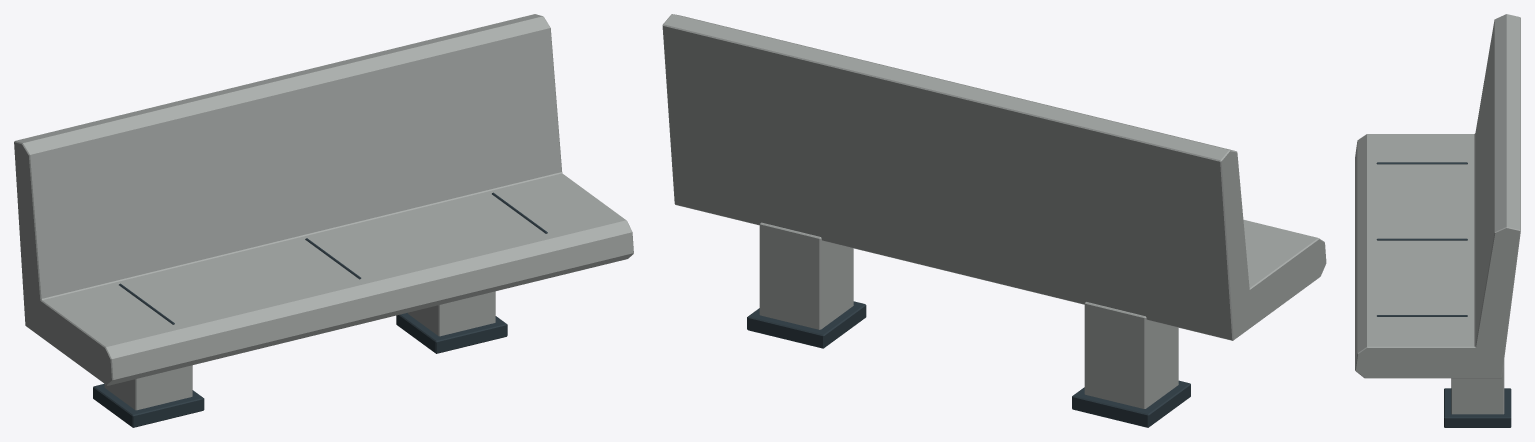
Rendered from b01_cantilever_concrete_bench.glb.
3 views of the same model, side by side, from view 1: azimuth 30°, elevation 25°; view 2: azimuth 150°, elevation 25°; view 3: azimuth 270°, elevation 25° (orthographic). The views are drawn at different scales.
Visible parts, largest first — view 1: b01_cantilever_concrete_bench; view 2: b01_cantilever_concrete_bench; view 3: b01_cantilever_concrete_bench.
Part boxes in pixels (x1,y1,x2,y2): b01_cantilever_concrete_bench: (14,14,633,427); b01_cantilever_concrete_bench: (662,14,1326,427); b01_cantilever_concrete_bench: (1355,14,1520,427).
Bounding box in the file's own units: 2.1 × 1.06 × 0.6892.
